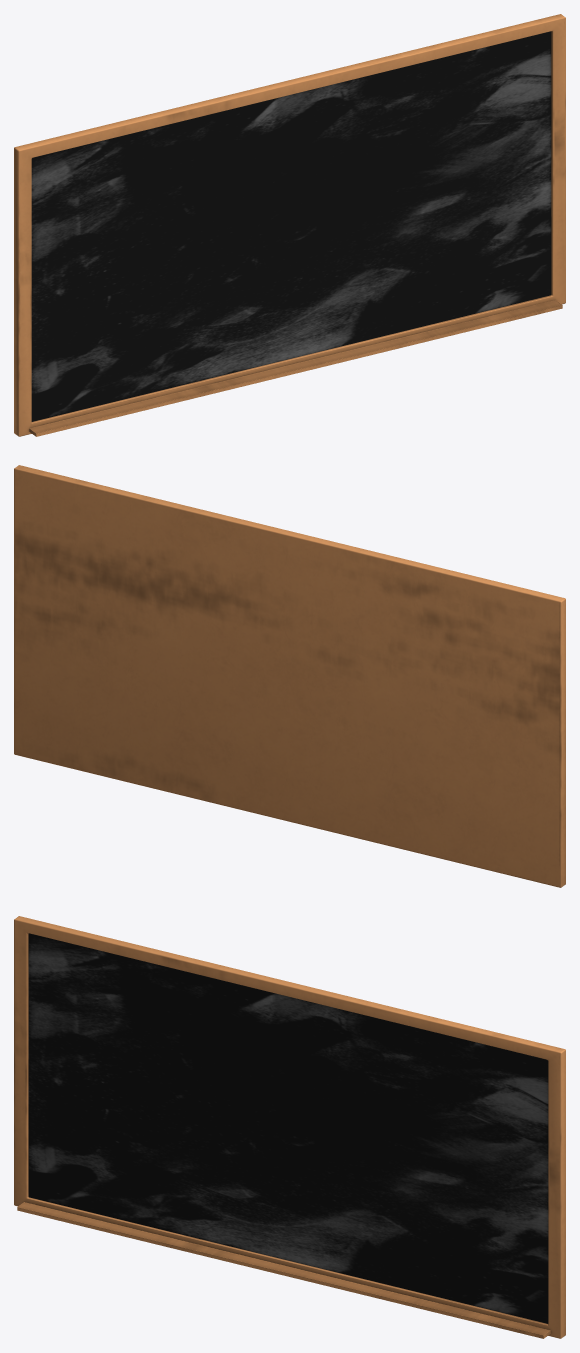
Rendered from Blackboard.fbx.
The picture shows the model from 3 angles, top to bottom: view 1: azimuth 30°, elevation 25°; view 2: azimuth 150°, elevation 25°; view 3: azimuth 330°, elevation 25°; orthographic projection.
Visible parts, largest first — view 1: Blackboard; view 2: Blackboard; view 3: Blackboard.
Boxes of the visible parts, x1,y1,x2,y2 form: Blackboard: (14,14,565,436); Blackboard: (14,465,565,887); Blackboard: (14,916,565,1338).
Bounding box in the file's own units: 800 × 400 × 30.64.
